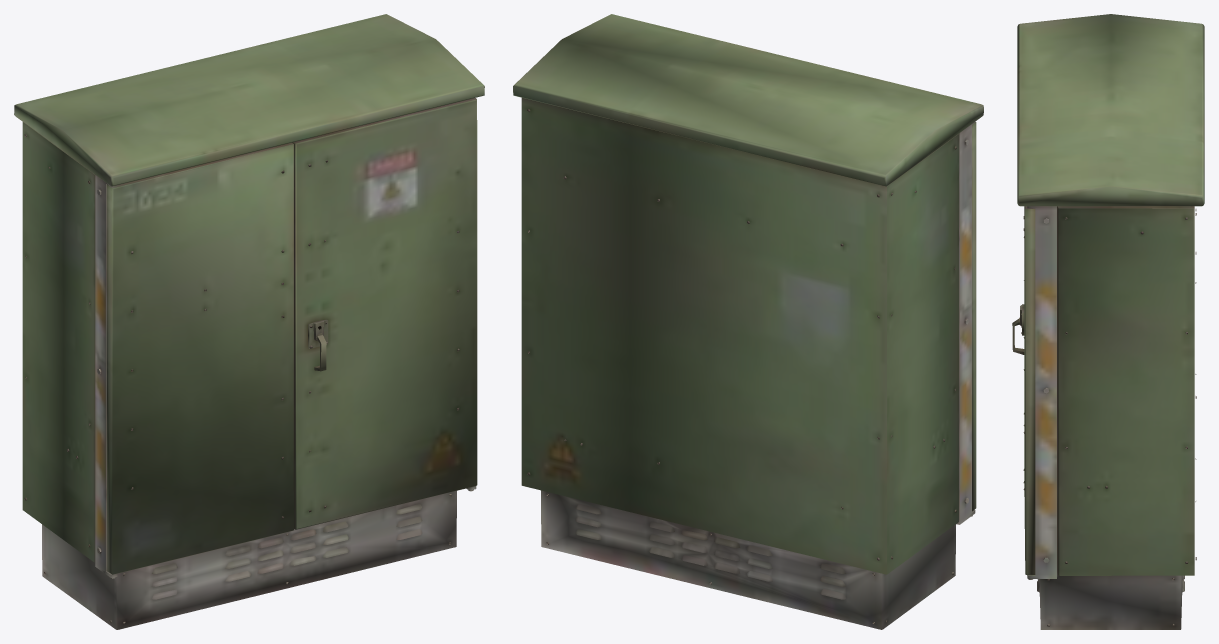
Rendered from utility_box_02.glb.
3 renders of one model, left to right at view 1: azimuth 30°, elevation 25°; view 2: azimuth 150°, elevation 25°; view 3: azimuth 270°, elevation 25°, orthographic. The views are drawn at different scales.
Visible parts, largest first — view 1: utility_box_02; view 2: utility_box_02; view 3: utility_box_02.
Boxes of the visible parts, box(x1,y1,x2,y2) form: utility_box_02: box(14, 14, 484, 629); utility_box_02: box(513, 14, 983, 629); utility_box_02: box(1012, 14, 1204, 629).
Bounding box in the file's own units: 0.92 × 1.12 × 0.4311.
1 material, 1 textured.
